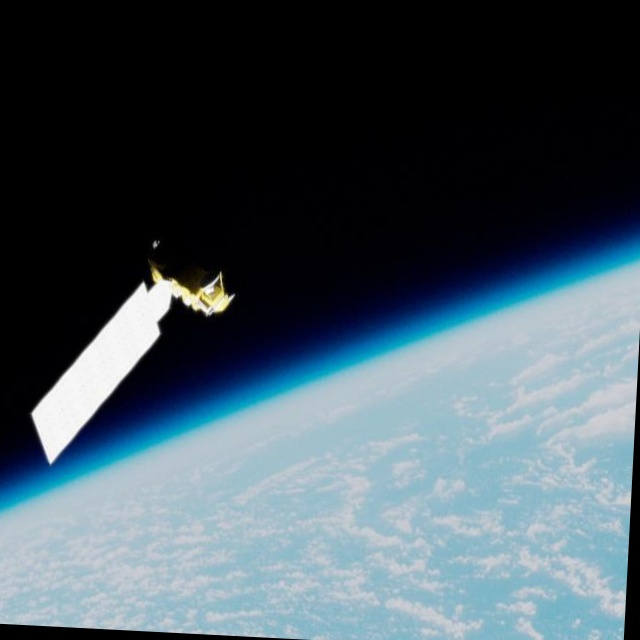medium_debris: (10, 206, 248, 486)
